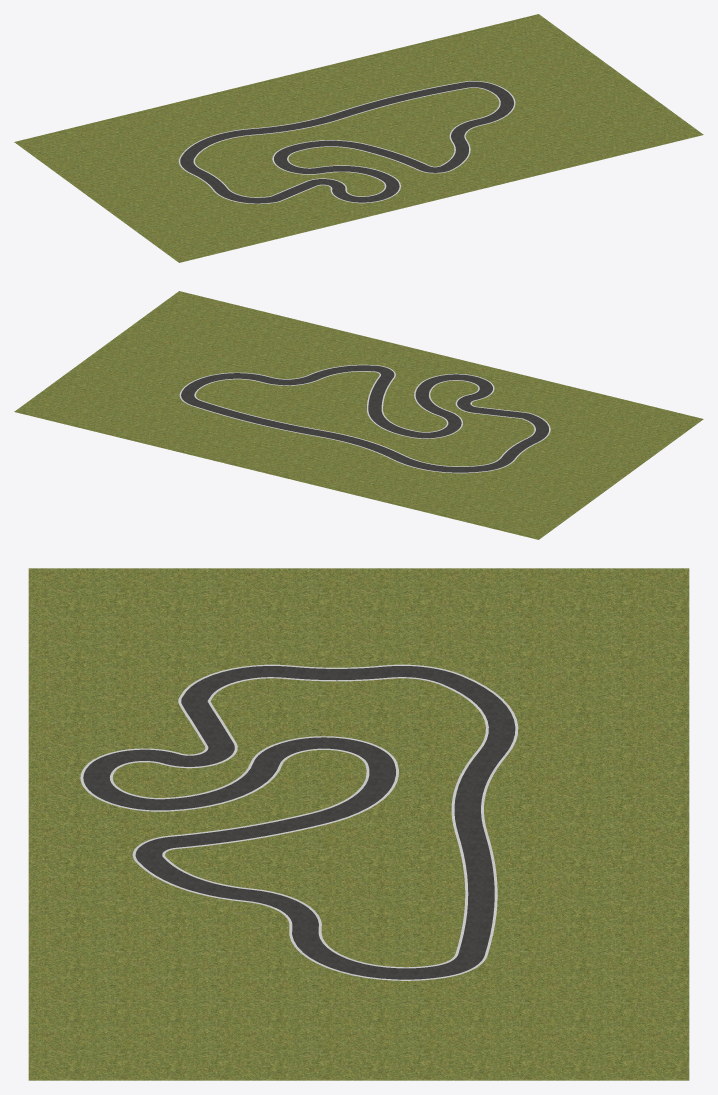
The model's file is track5.dae.
The picture shows the model from 3 angles, top to bottom: view 1: azimuth 30°, elevation 25°; view 2: azimuth 150°, elevation 25°; view 3: azimuth 270°, elevation 25°; orthographic projection. The views are drawn at different scales.
Visible parts, largest first — view 1: field, road, outerline, innerline; view 2: field, road, outerline, innerline; view 3: field, road, outerline, innerline.
Part boxes in pixels (x1,y1,x2,y2): field: [14, 14, 703, 262]; road: [180, 81, 513, 203]; outerline: [178, 81, 515, 204]; innerline: [193, 87, 500, 197]; field: [14, 291, 703, 539]; road: [181, 365, 548, 472]; outerline: [179, 364, 550, 473]; innerline: [194, 371, 535, 466]; field: [28, 568, 689, 1080]; road: [83, 666, 515, 979]; outerline: [80, 664, 518, 980]; innerline: [110, 677, 488, 968].
Bounding box in the file's own units: 74.83 × 40.8 × 0.01.
3 materials, 3 textured.
